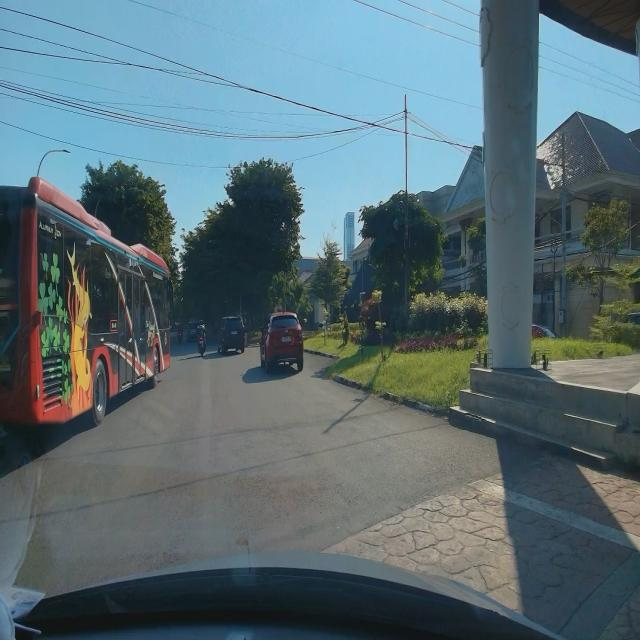bus: (0, 177, 172, 433)
car: (260, 310, 303, 372), (217, 314, 246, 356)
license-plate: (282, 336, 292, 342), (231, 331, 238, 334)
